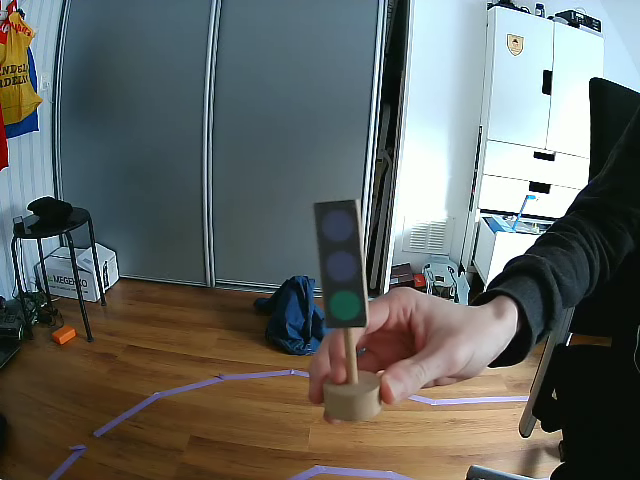groenlicht: (321, 200, 361, 329)
